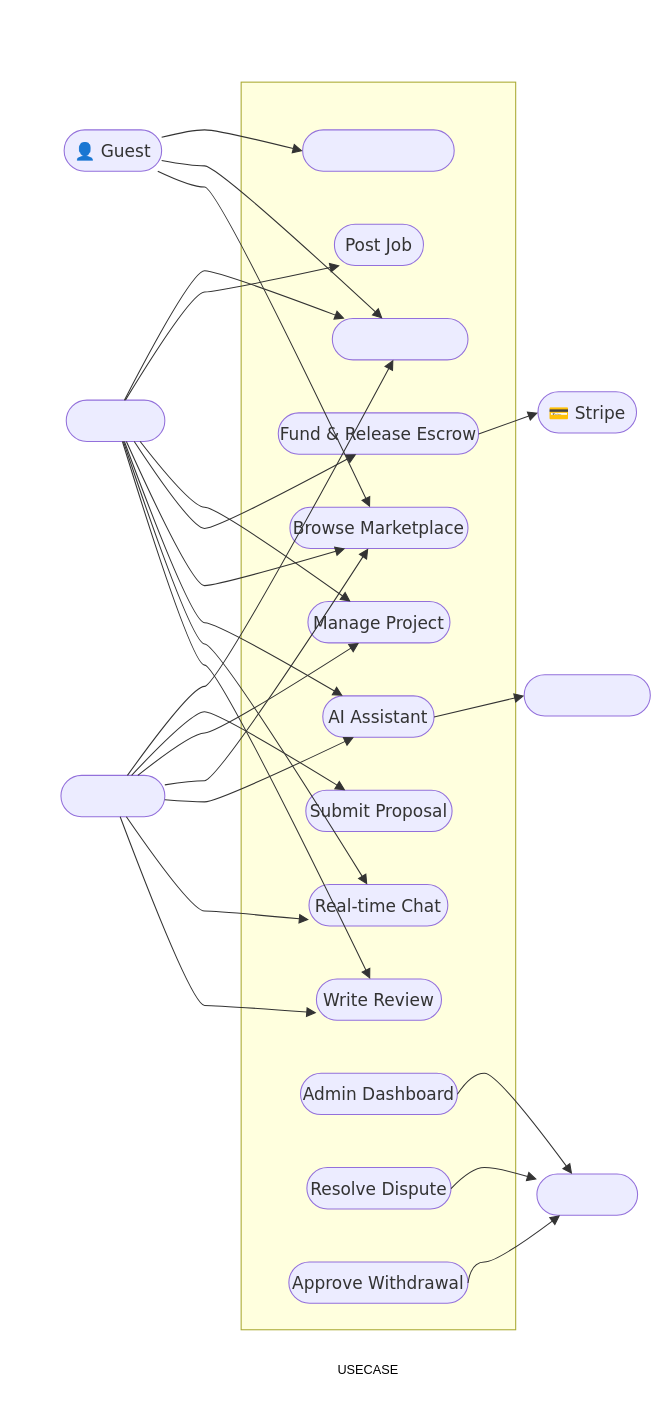
The diagram is 669 pixels wide and 1403 high, and some of its shapes have lost their labels. Here are the shapes that lost their labels. From the top down, the box of each, then its label:
(302, 129, 454, 171): Register Account
(331, 317, 468, 360): Login / Logout
(65, 399, 165, 441): 🏢 Client
(240, 81, 516, 1330): «subsystem» AI Tasker Platform
(523, 674, 650, 716): 🤖 Gemini AI
(60, 774, 165, 817): 👨‍💻 Expert
(536, 1173, 638, 1215): ⚙️ Admin
